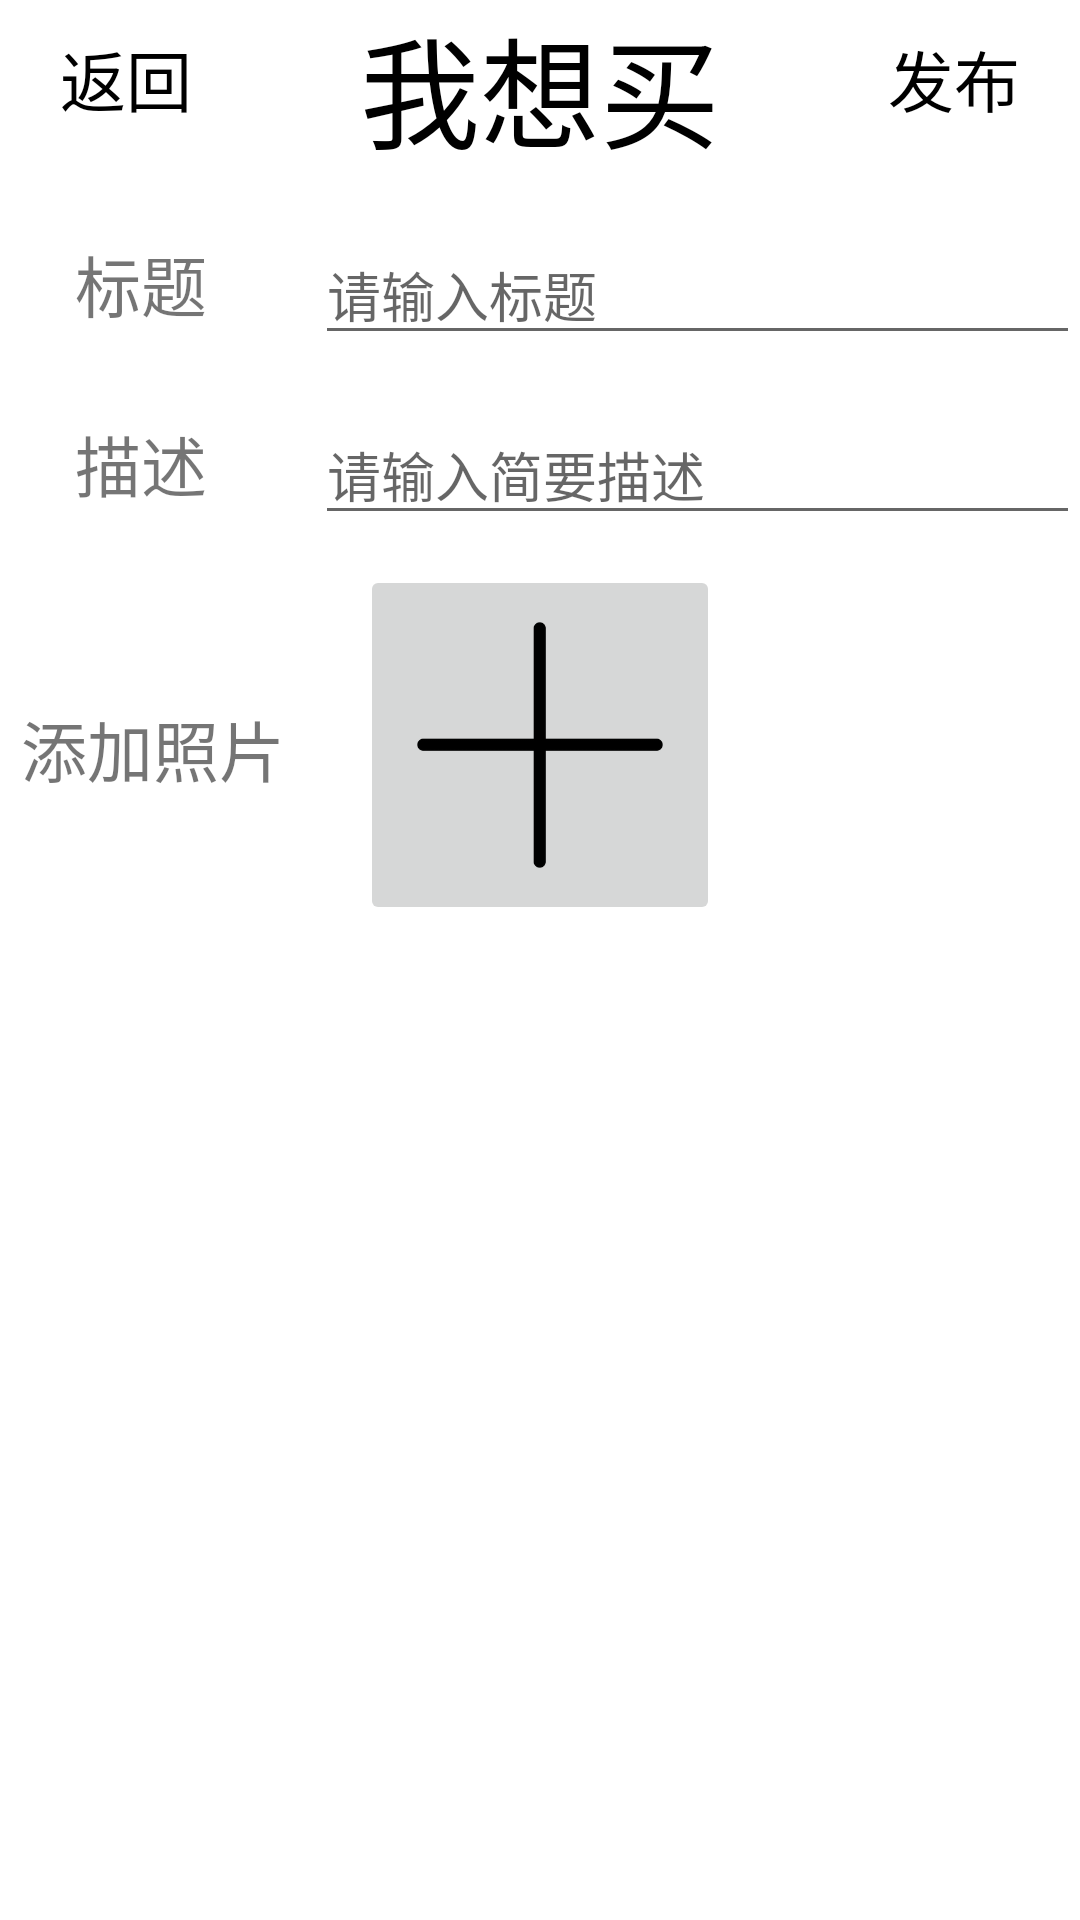

Point at icon controls on the screen. Image size 1080x1920, points as point (x, y).
add: point (540, 745)
